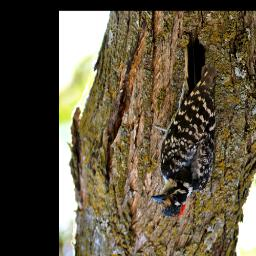Woodpecker: (151, 29, 212, 220)
